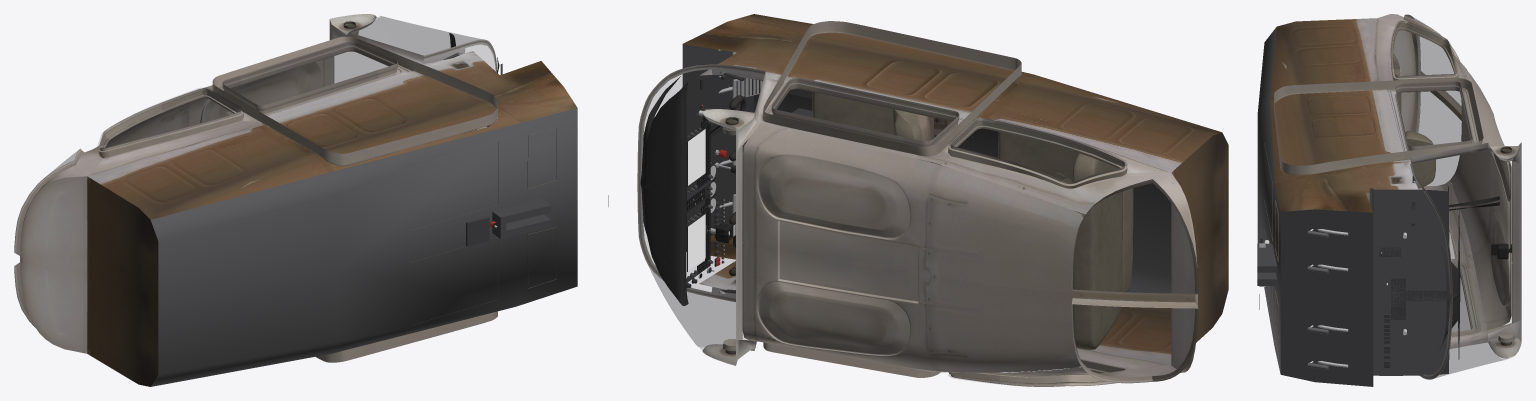
Rendered from cockpit.glb.
The picture shows the model from 3 angles, left to right: view 1: azimuth 30°, elevation 25°; view 2: azimuth 150°, elevation 25°; view 3: azimuth 270°, elevation 25°; orthographic projection. The views are drawn at different scales.
Parts seen in each view (by area): view 1: interior, glass, cabin; view 2: interior, glass, cabin, pedals_left; view 3: interior, glass, cabin, pedals_right, pedals_left.
Boxes of the visible parts, x1=… form: interior: x1=14, y1=14, x2=577, y2=386; glass: x1=51, y1=16, x2=494, y2=172; cabin: x1=443, y1=33, x2=608, y2=246; interior: x1=637, y1=14, x2=1228, y2=386; glass: x1=638, y1=65, x2=1197, y2=383; cabin: x1=640, y1=71, x2=812, y2=305; pedals_left: x1=718, y1=78, x2=762, y2=213; interior: x1=1257, y1=14, x2=1521, y2=386; glass: x1=1391, y1=15, x2=1520, y2=377; cabin: x1=1257, y1=176, x2=1518, y2=375; pedals_right: x1=1307, y1=229, x2=1348, y2=334; pedals_left: x1=1307, y1=264, x2=1348, y2=369.
Size of the model in its own units: 2.71 by 1.12 by 1.34.
42 materials, 4 textured.
